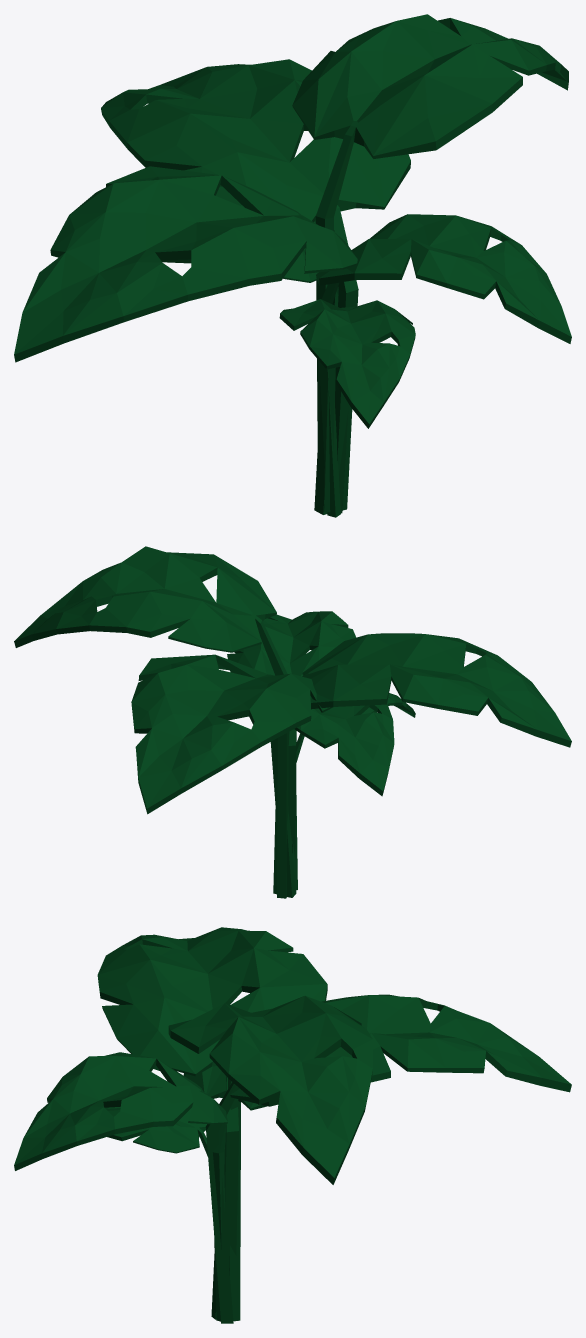
Rendered from grass_001.FBX.
The picture shows the model from 3 angles, top to bottom: view 1: azimuth 30°, elevation 25°; view 2: azimuth 150°, elevation 25°; view 3: azimuth 270°, elevation 25°; orthographic projection. The views are drawn at different scales.
Parts seen in each view (by area): view 1: Plane006; view 2: Plane006; view 3: Plane006.
Part boxes in pixels (bbox=[...]): Plane006: bbox=[14, 14, 571, 517]; Plane006: bbox=[14, 546, 571, 898]; Plane006: bbox=[14, 927, 571, 1323].
Bounding box in the file's own units: 46.54 × 29.05 × 40.34.
